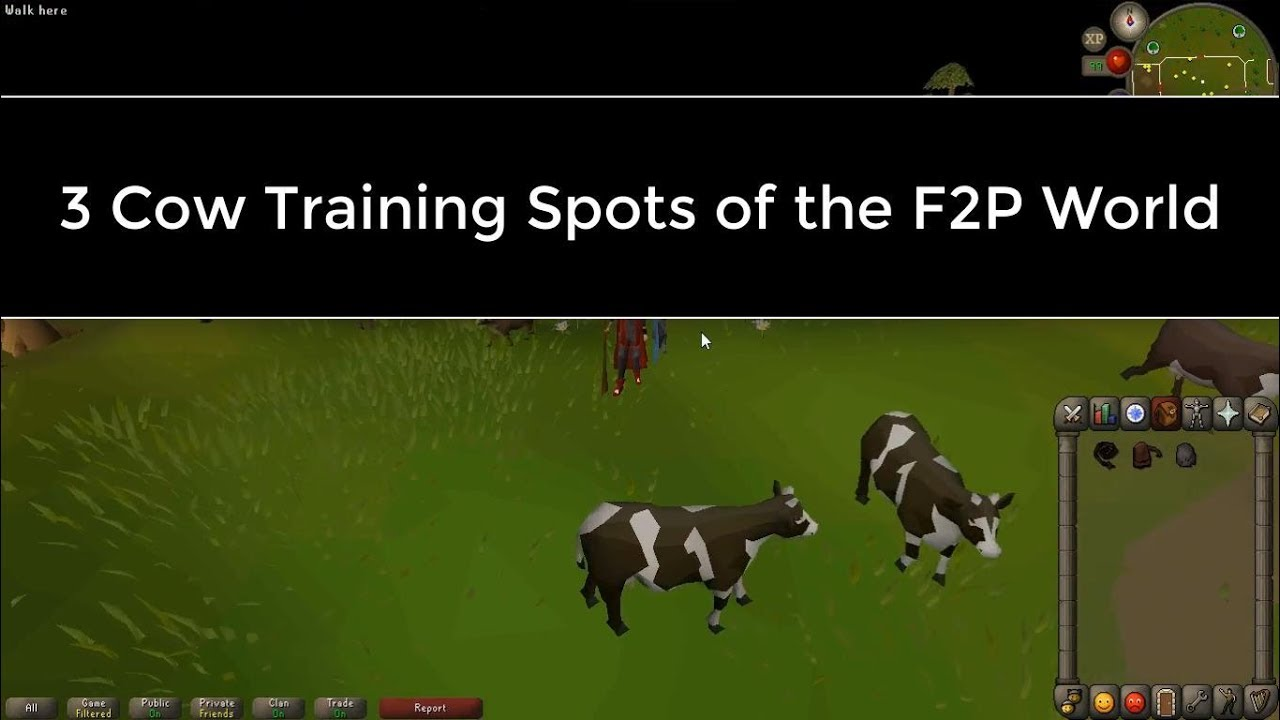rs_cow: (581, 478, 816, 624), (852, 401, 1008, 601)
